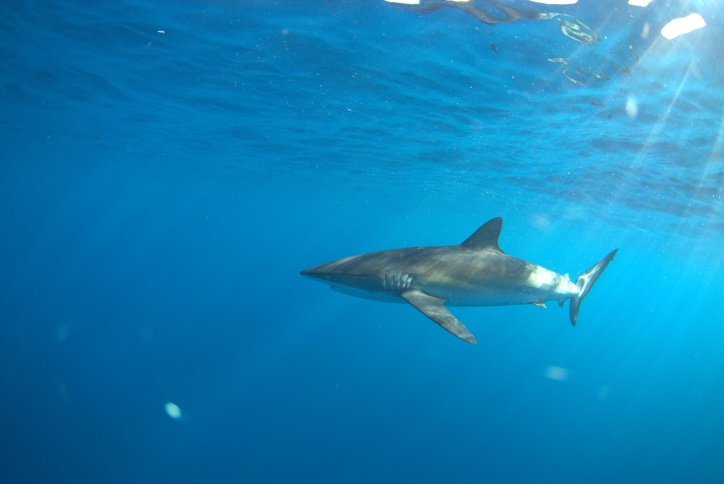Sedoso: (261, 207, 631, 352)
